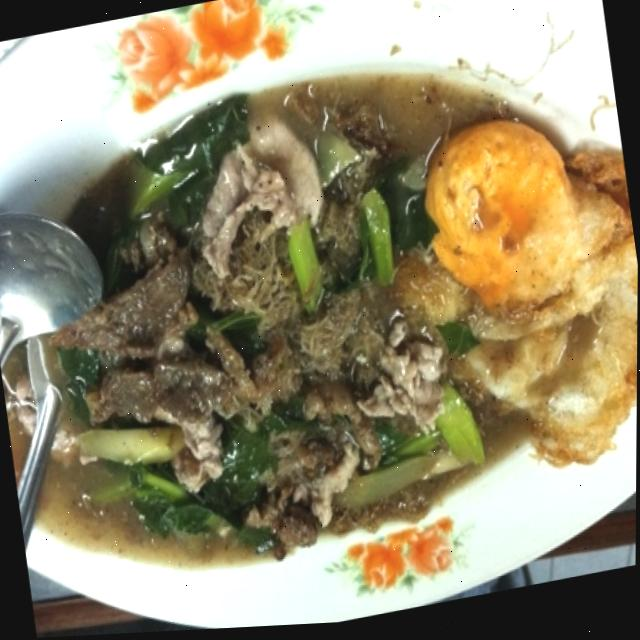面条主食: (0, 64, 639, 607)
